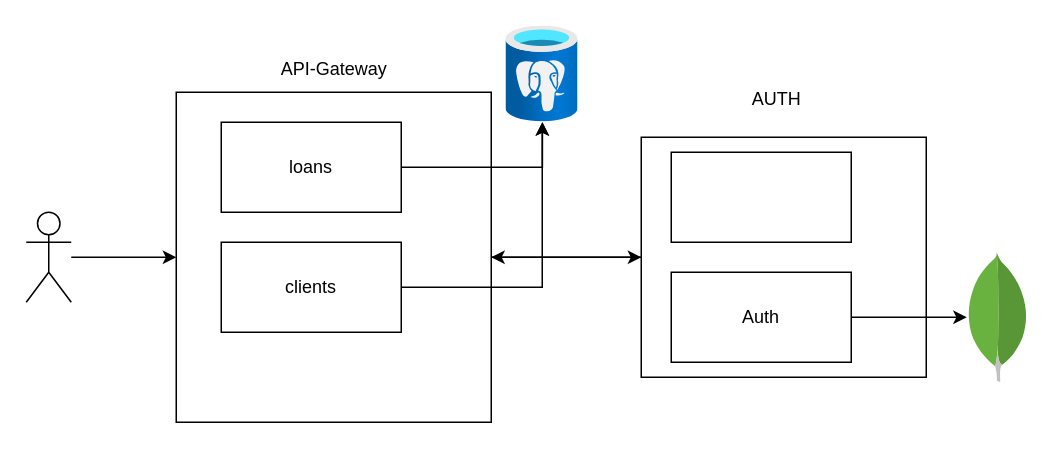
This 1056x449 diagram has some shape labels left out. The centre of each missing label's shape, as x and y in pixels:
Actor: the point at 48,256
Token: the point at 760,196
